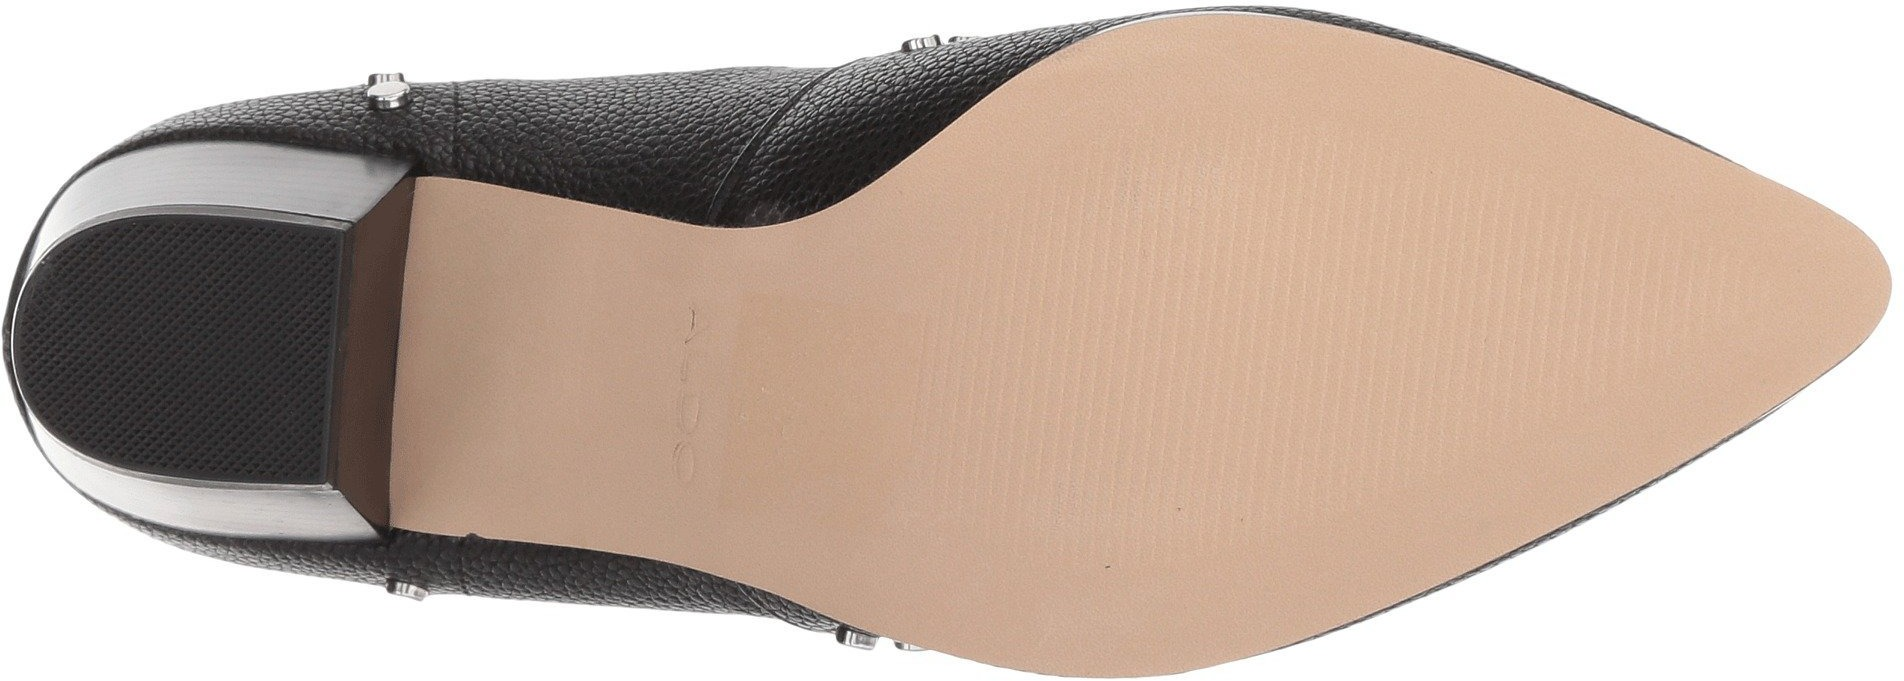exclude: (314, 495, 454, 605)
line: (1214, 199, 1461, 452), (950, 250, 1209, 489), (1469, 208, 1651, 378), (1081, 125, 1208, 244)
other: (169, 328, 312, 465), (32, 297, 166, 416), (171, 228, 270, 324)
